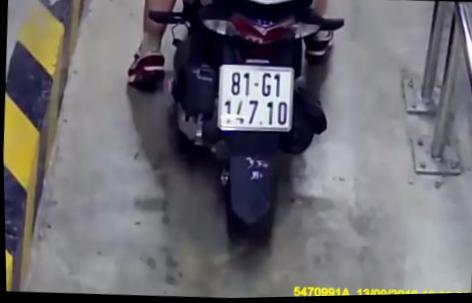LP: (213, 59, 297, 137)
